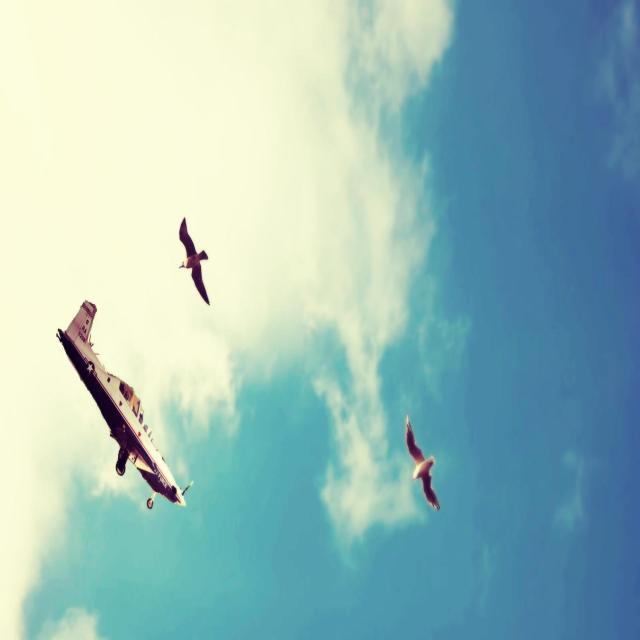airplane: (56, 298, 193, 510)
